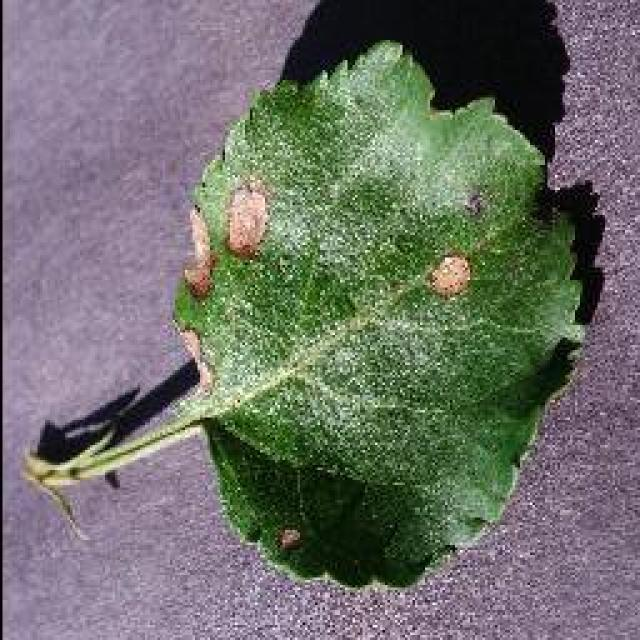Black_rot: (20, 35, 592, 590)
